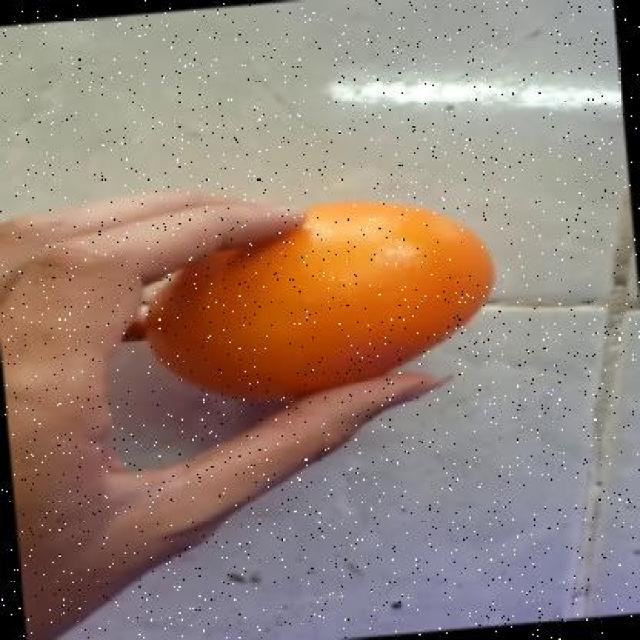Orange: (143, 197, 495, 400)
